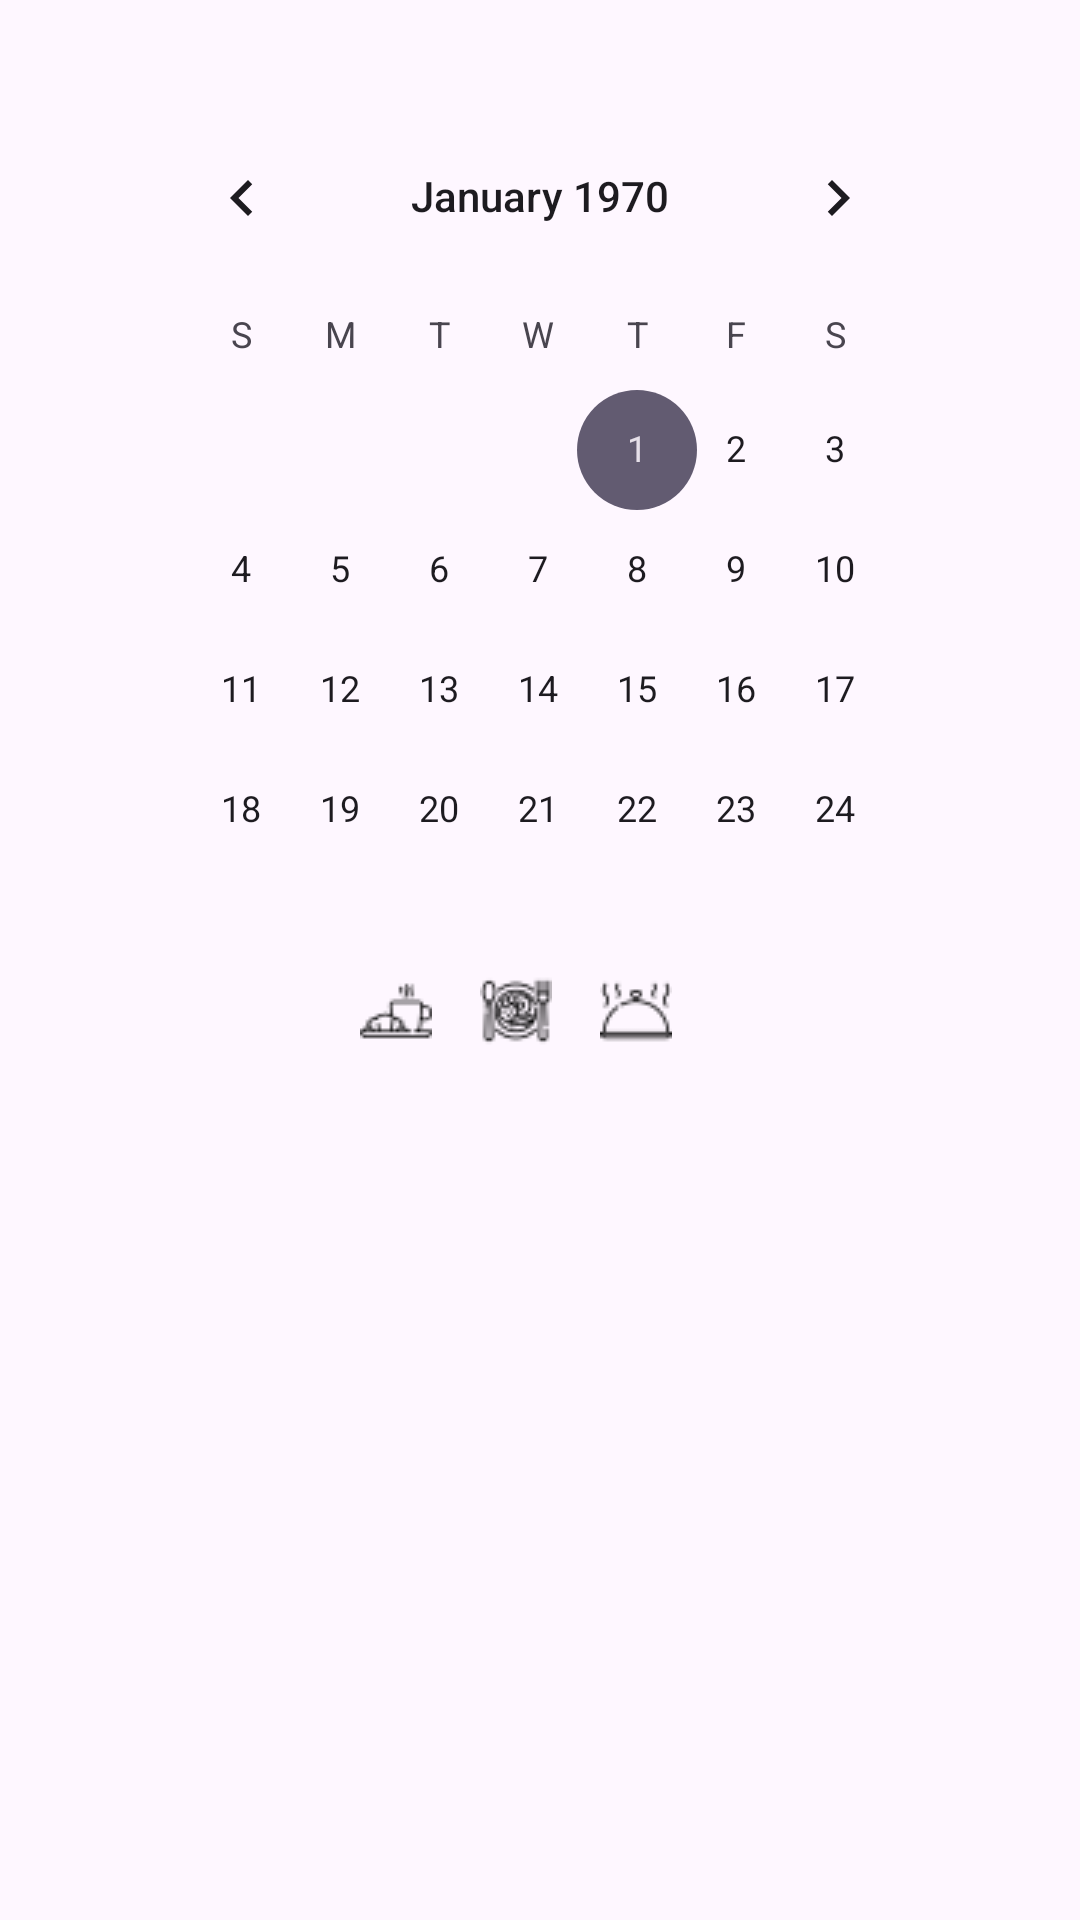

Icons on this 1080×1920 Android screen, each with its box as (x1, y1, x2, y2):
Breakfast: (360, 983, 432, 1039)
Dinner: (600, 983, 672, 1041)
Lunch: (480, 980, 552, 1042)
